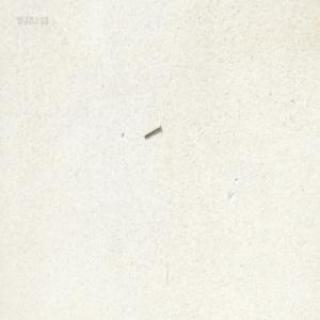Bolttrack_idkeyframe: (142, 122, 160, 138)
